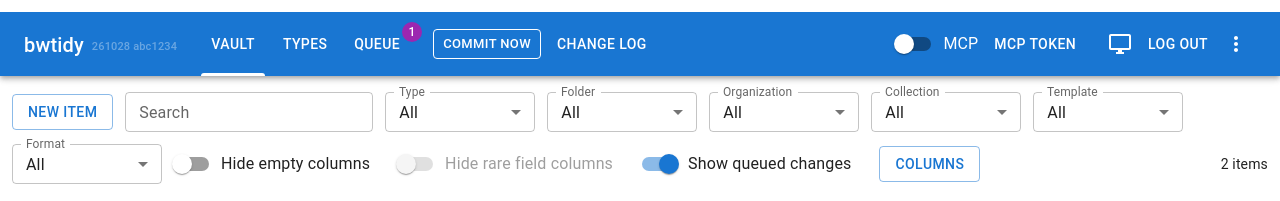
it: the Queue button says the unsaved edits with a countdown, and Commit now commits them
Hover over the button with aria-label "Queue, 1 unsaved edits" at (377, 44), box [345,12,409,76]
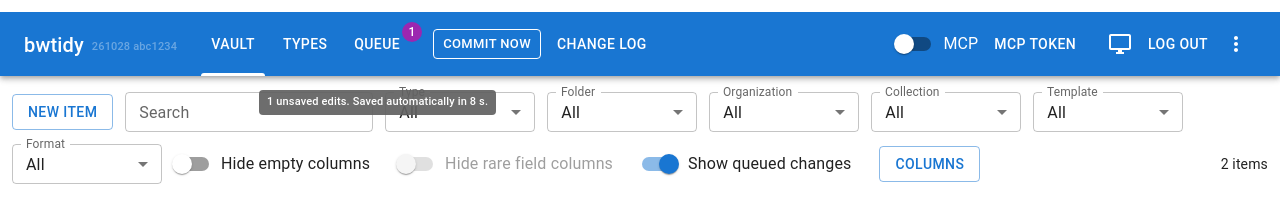
Expected: the tooltip reads "1 unsaved edits. Saved automatically in 8 s.", [267,95,488,108]
Click the button "Commit now" at (487, 44), box [433,29,541,59]
Wait 100 ms
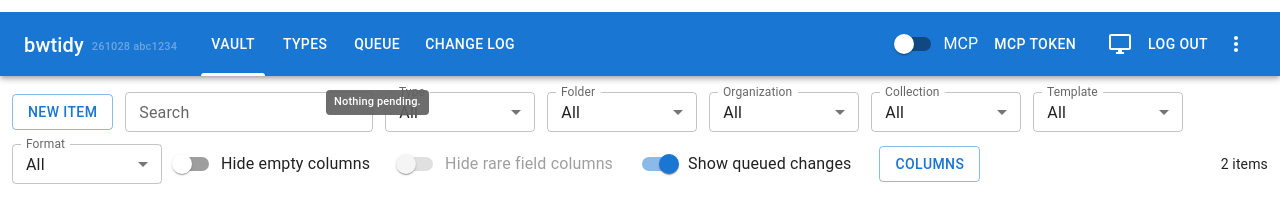
Expected: the button "Commit now" is gone
